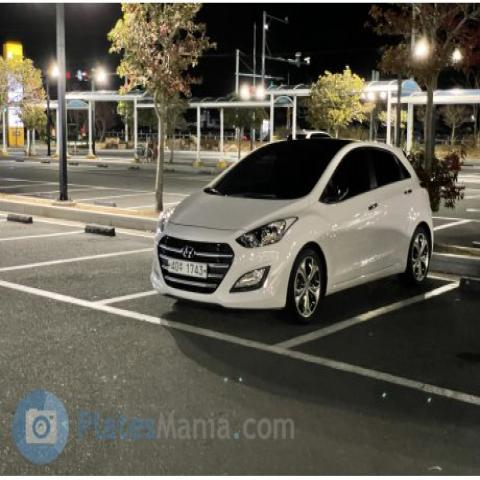LP: (155, 244, 223, 293)
